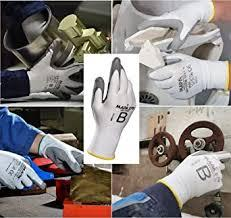gloves: (87, 57, 137, 161), (155, 149, 231, 210), (136, 1, 215, 54), (147, 52, 230, 101), (26, 39, 84, 100), (1, 150, 47, 192), (38, 133, 84, 174)
